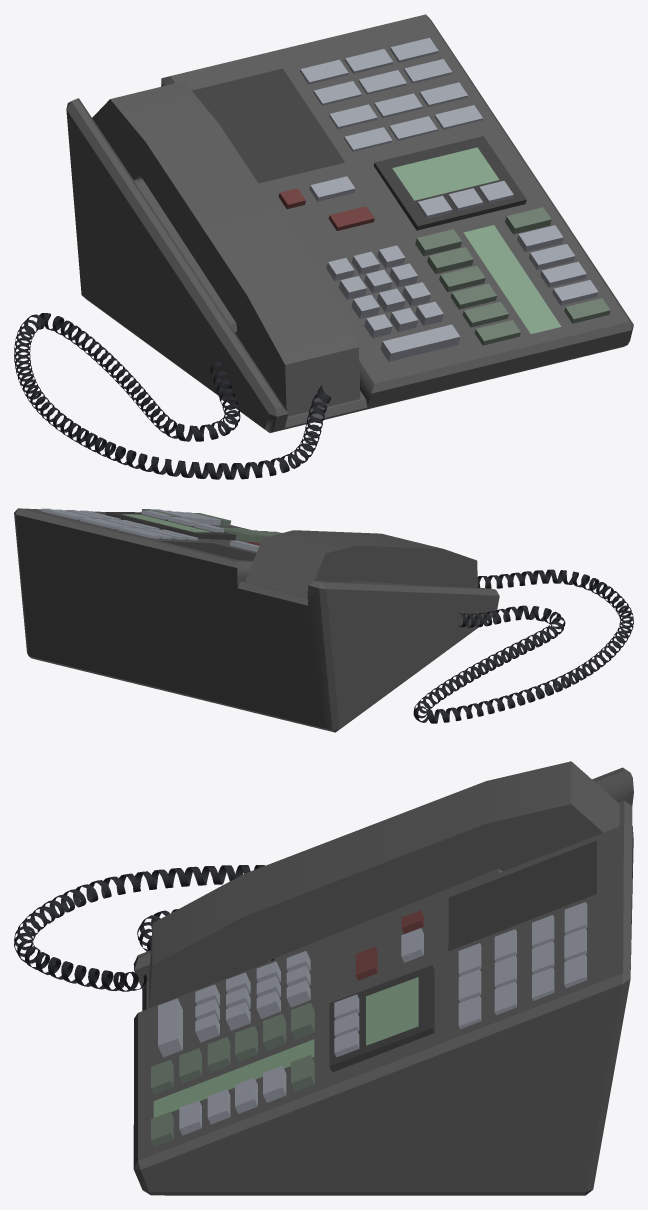
Rendered from phone.fbx.
3 views of the same model, one above another, from view 1: azimuth 30°, elevation 25°; view 2: azimuth 150°, elevation 25°; view 3: azimuth 270°, elevation 25° (orthographic). The views are drawn at different scales.
Visible parts, largest first — view 1: phone_col, phone_receiver_col, phonecord_col, phone_buttons1_col, phone_numpad1_col, phone_buttons3_col, phone_numpad2_col, phone_buttons2_col; view 2: phone_col, phone_receiver_col, phonecord_col, phone_buttons3_col, phone_numpad1_col, phone_buttons1_col; view 3: phone_col, phone_receiver_col, phone_buttons1_col, phone_buttons3_col, phone_numpad1_col, phone_numpad2_col, phonecord_col, phone_buttons2_col.
Part boxes in pixels (bbox=[...]): phone_col: bbox=[66, 14, 633, 432]; phone_receiver_col: bbox=[92, 81, 360, 416]; phonecord_col: bbox=[14, 313, 331, 479]; phone_buttons1_col: bbox=[415, 207, 610, 345]; phone_numpad1_col: bbox=[300, 37, 482, 151]; phone_buttons3_col: bbox=[373, 136, 526, 230]; phone_numpad2_col: bbox=[326, 245, 460, 361]; phone_buttons2_col: bbox=[278, 176, 374, 230]; phone_col: bbox=[14, 508, 499, 732]; phone_receiver_col: bbox=[245, 530, 477, 596]; phonecord_col: bbox=[413, 569, 633, 723]; phone_buttons3_col: bbox=[105, 510, 236, 540]; phone_numpad1_col: bbox=[41, 508, 198, 540]; phone_buttons1_col: bbox=[141, 509, 281, 542]; phone_col: bbox=[133, 767, 633, 1195]; phone_receiver_col: bbox=[148, 761, 619, 1008]; phone_buttons1_col: bbox=[151, 1002, 314, 1146]; phone_buttons3_col: bbox=[329, 965, 434, 1072]; phone_numpad1_col: bbox=[458, 902, 587, 1029]; phone_numpad2_col: bbox=[158, 951, 310, 1057]; phonecord_col: bbox=[14, 865, 265, 991]; phone_buttons2_col: bbox=[355, 910, 423, 980].
Bounding box in the file's own units: 0.2947 × 0.1066 × 0.2511.
